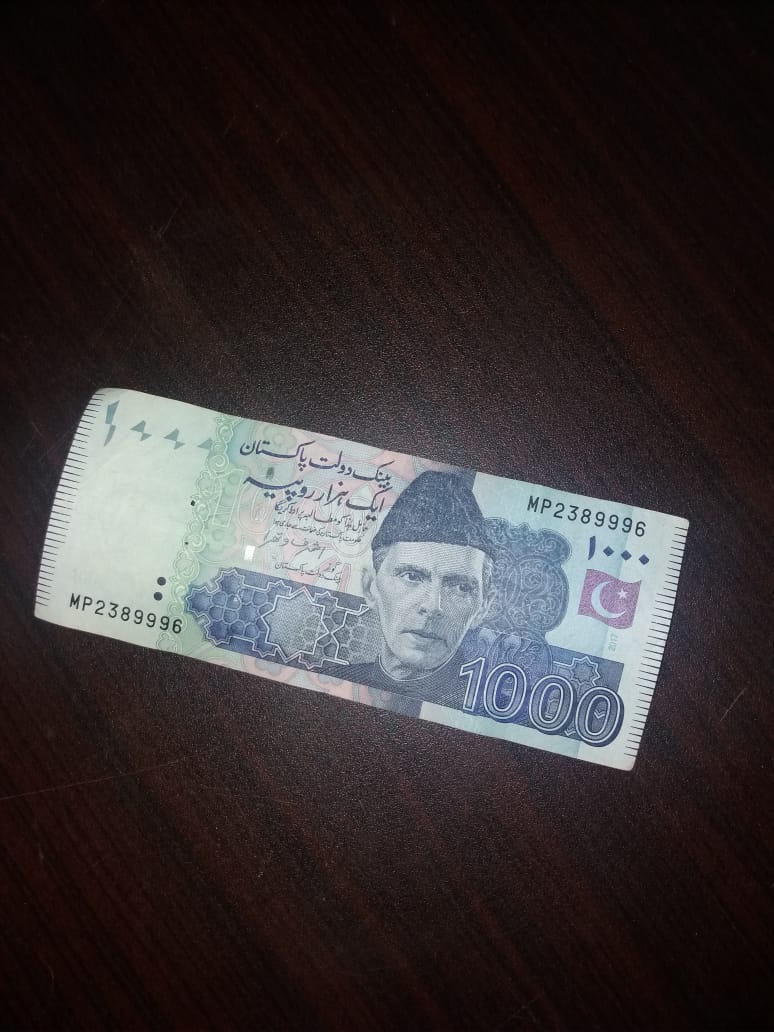1000 rupee: (27, 360, 710, 801)
